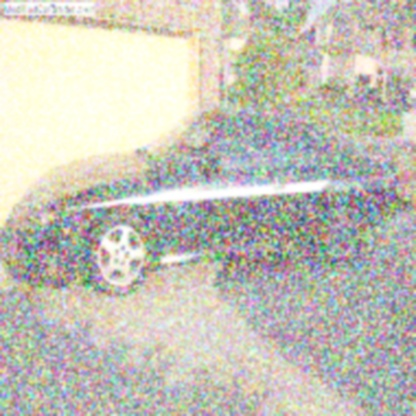Vehicle: (12, 102, 403, 298)
